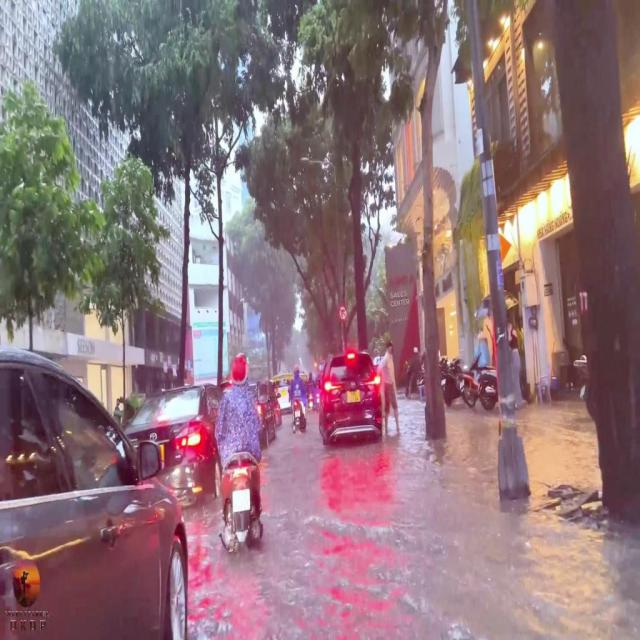cam_re_phai: (337, 304, 347, 322)
